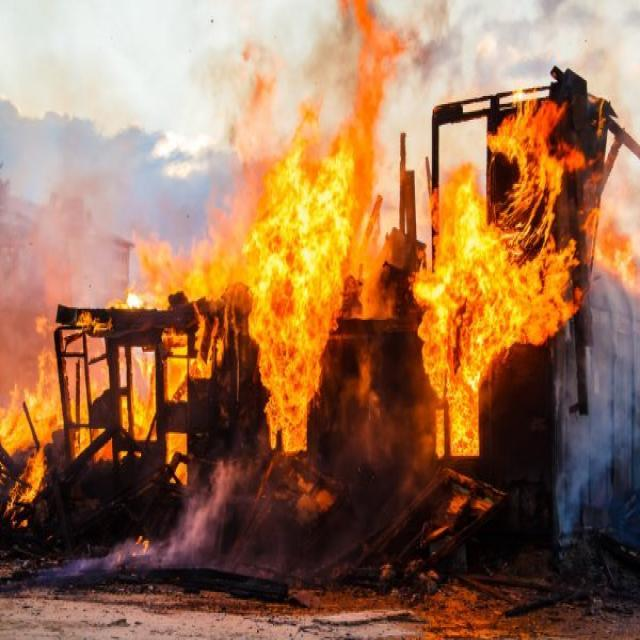Fire: (412, 97, 580, 460), (230, 130, 361, 456), (85, 224, 226, 461), (0, 304, 83, 504), (587, 201, 640, 299)
